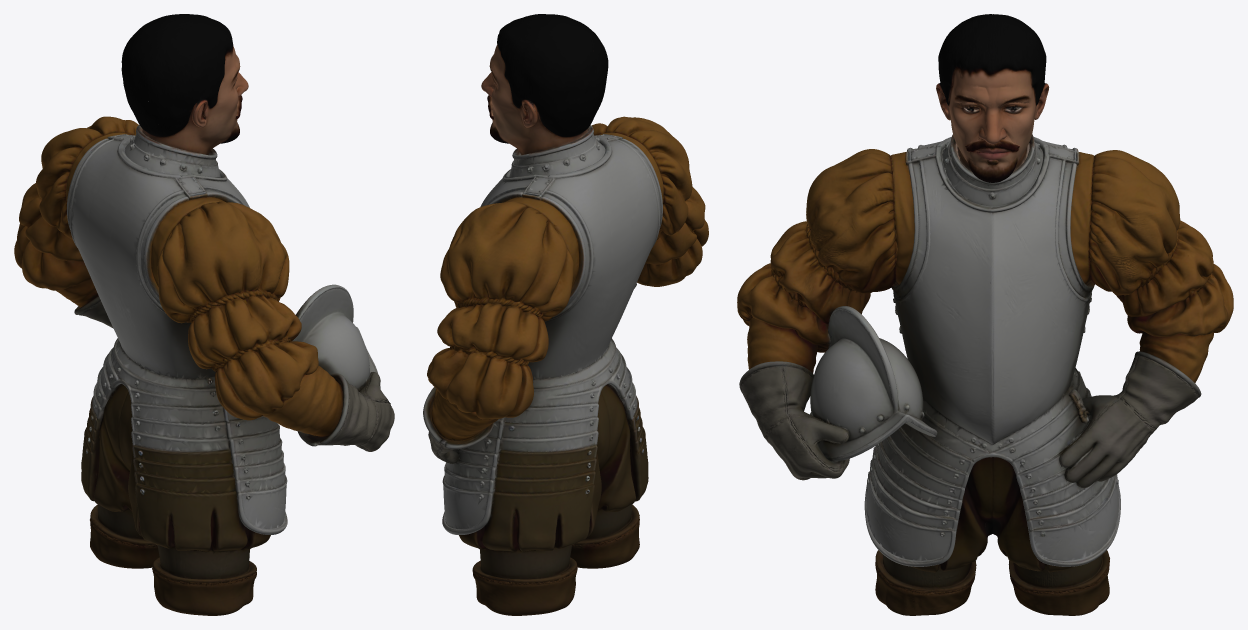
Rendered from capitan_armadura.glb.
3 views of the same model, side by side, from view 1: azimuth 30°, elevation 25°; view 2: azimuth 150°, elevation 25°; view 3: azimuth 270°, elevation 25° (orthographic). The views are drawn at different scales.
Parts seen in each view (by area): view 1: tripo_node_f47badb4-c01d-4412-abf3-4c1ca548b777; view 2: tripo_node_f47badb4-c01d-4412-abf3-4c1ca548b777; view 3: tripo_node_f47badb4-c01d-4412-abf3-4c1ca548b777.
Boxes of the visible parts, box(x1,y1,x2,y2) form: tripo_node_f47badb4-c01d-4412-abf3-4c1ca548b777: box(14, 14, 394, 615); tripo_node_f47badb4-c01d-4412-abf3-4c1ca548b777: box(423, 14, 708, 615); tripo_node_f47badb4-c01d-4412-abf3-4c1ca548b777: box(737, 14, 1233, 615).
Bounding box in the file's own units: 0.399 × 0.9788 × 0.7602.
1 material, 1 textured.
